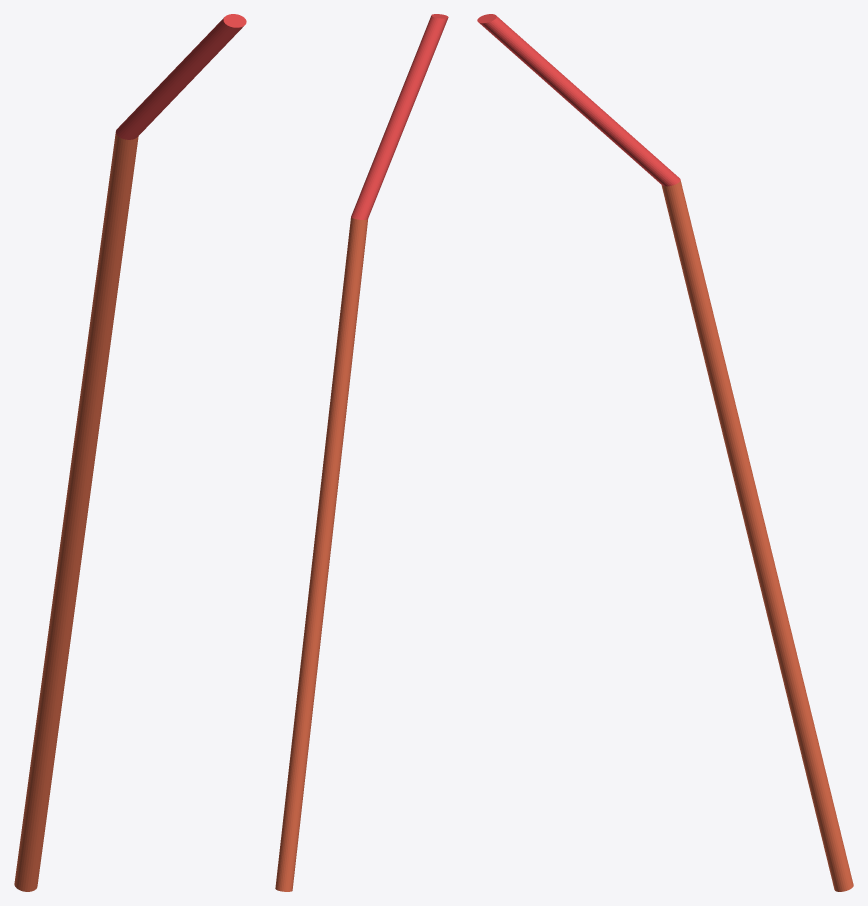
The model's file is Res01_Straw.fbx.
The picture shows the model from 3 angles, left to right: view 1: azimuth 30°, elevation 25°; view 2: azimuth 150°, elevation 25°; view 3: azimuth 270°, elevation 25°; orthographic projection. The views are drawn at different scales.
Visible parts, largest first — view 1: Res01_Straw; view 2: Res01_Straw; view 3: Res01_Straw.
Boxes of the visible parts, <box> form: Res01_Straw: <box>14,14,246,891</box>; Res01_Straw: <box>275,14,448,891</box>; Res01_Straw: <box>477,14,853,891</box>.
Bounding box in the file's own units: 1.3 × 63.1 × 24.67.
